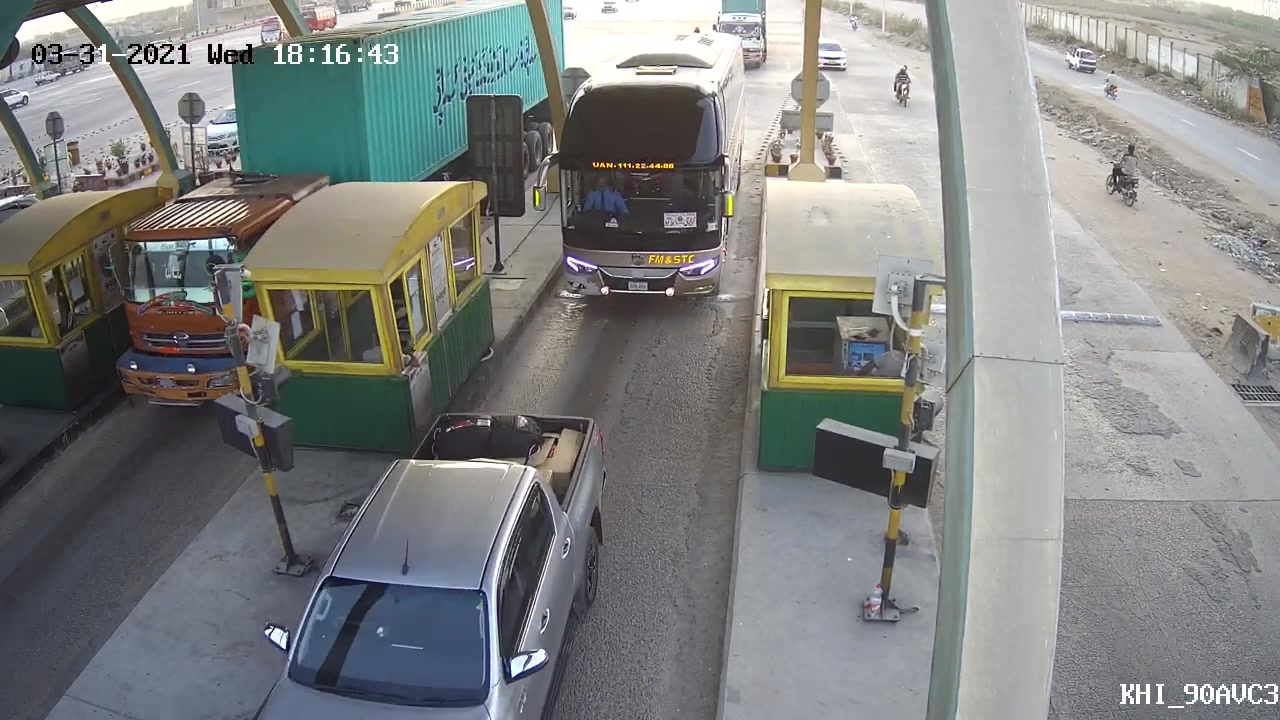F4: (539, 10, 755, 320)
